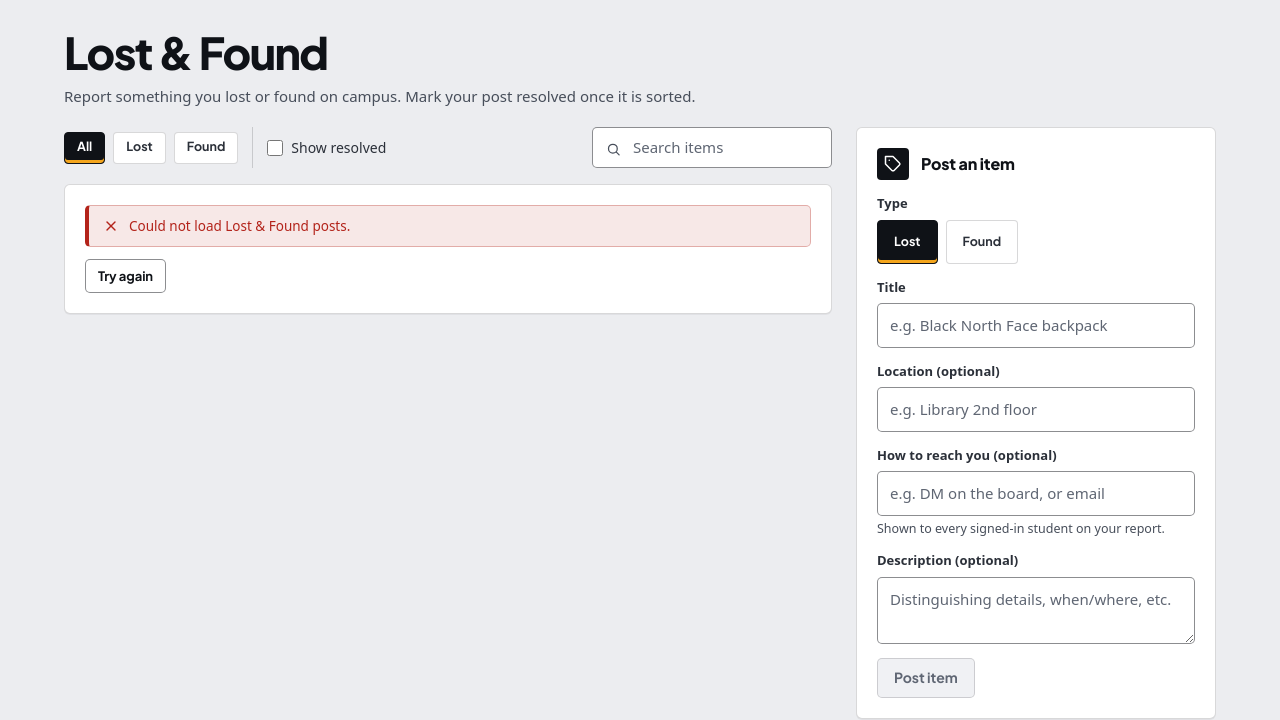
Test: Lost & Found errors › says a failed load failed, instead of an empty board, and Try again reads the list again
The image size is (1280, 720).
Check: the message reads "Could not load Lost & Found posts.", box [129,217,350,235]
Click the button "Try again".
click(126, 276)  # box [85,259,166,293]
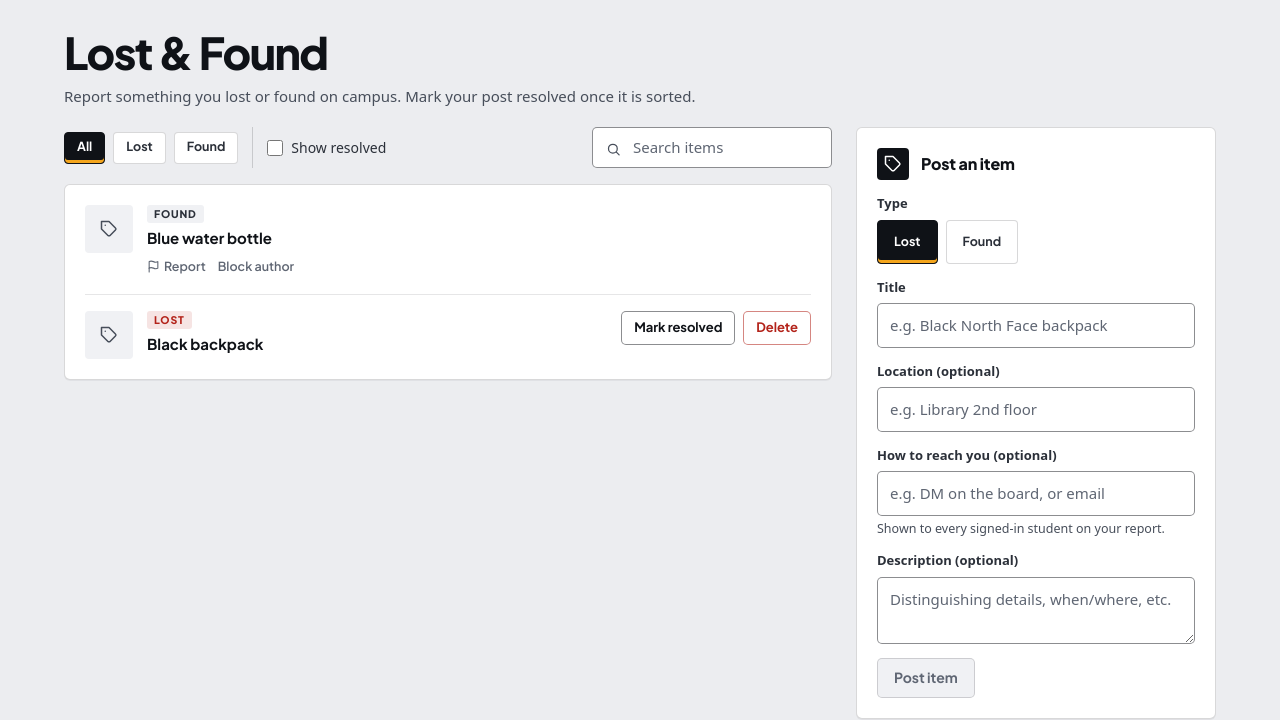
Check: the text "Blue water bottle" is shown, box [147,229,272,247]
Check: the message "Could not load Lost & Found posts." is gone
